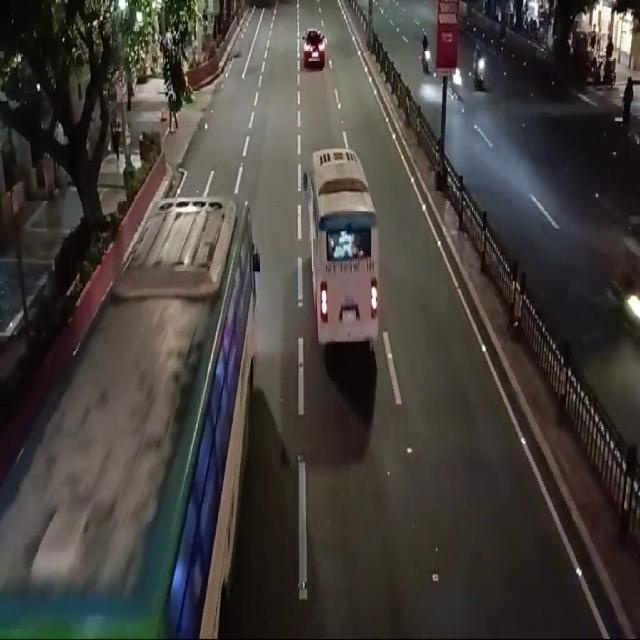bus: (1, 190, 271, 630), (306, 142, 394, 364)
car: (299, 28, 326, 74)
motorcycle: (468, 38, 492, 93)
